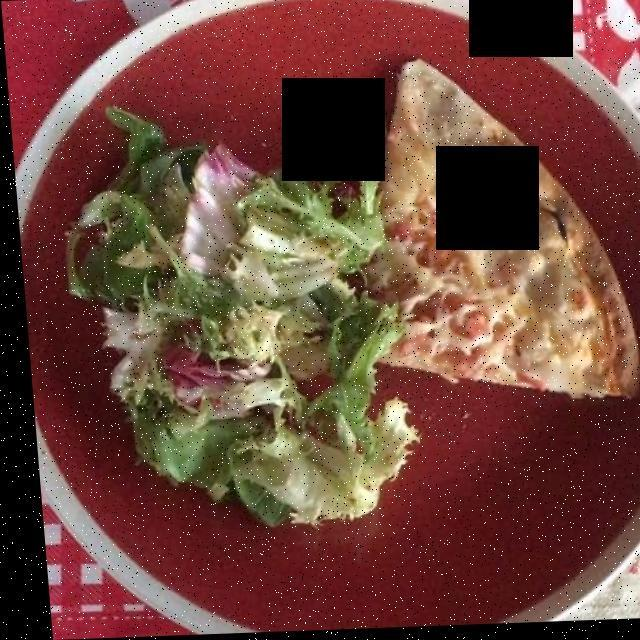pizza: (353, 70, 605, 395)
salad: (78, 137, 394, 506)
